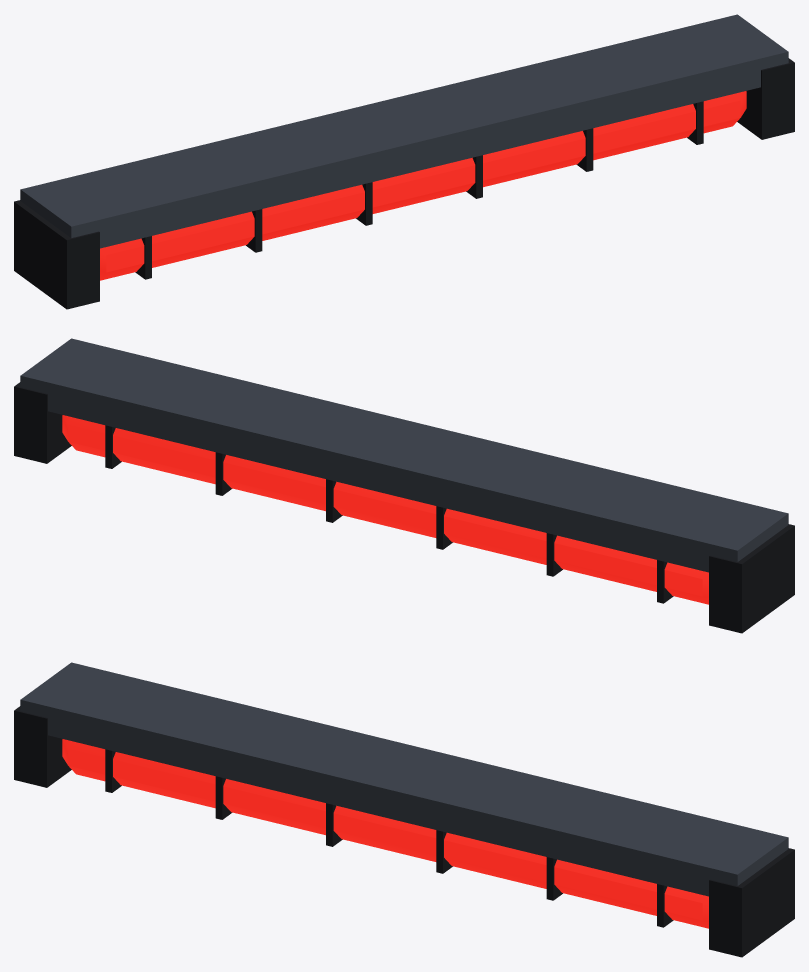
Rendered from beacon_red_alert_bar.glb.
3 renders of one model, top to bottom at view 1: azimuth 30°, elevation 25°; view 2: azimuth 150°, elevation 25°; view 3: azimuth 330°, elevation 25°, orthographic.
Parts seen in each view (by area): view 1: beacon_red_alert_bar; view 2: beacon_red_alert_bar; view 3: beacon_red_alert_bar.
Part boxes in pixels (bbox=[...]): beacon_red_alert_bar: bbox=[14, 14, 794, 309]; beacon_red_alert_bar: bbox=[14, 338, 794, 633]; beacon_red_alert_bar: bbox=[14, 662, 794, 957].
Bounding box in the file's own units: 1.32 × 0.14 × 0.166.
